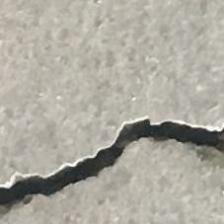Crack: (2, 114, 224, 212)
